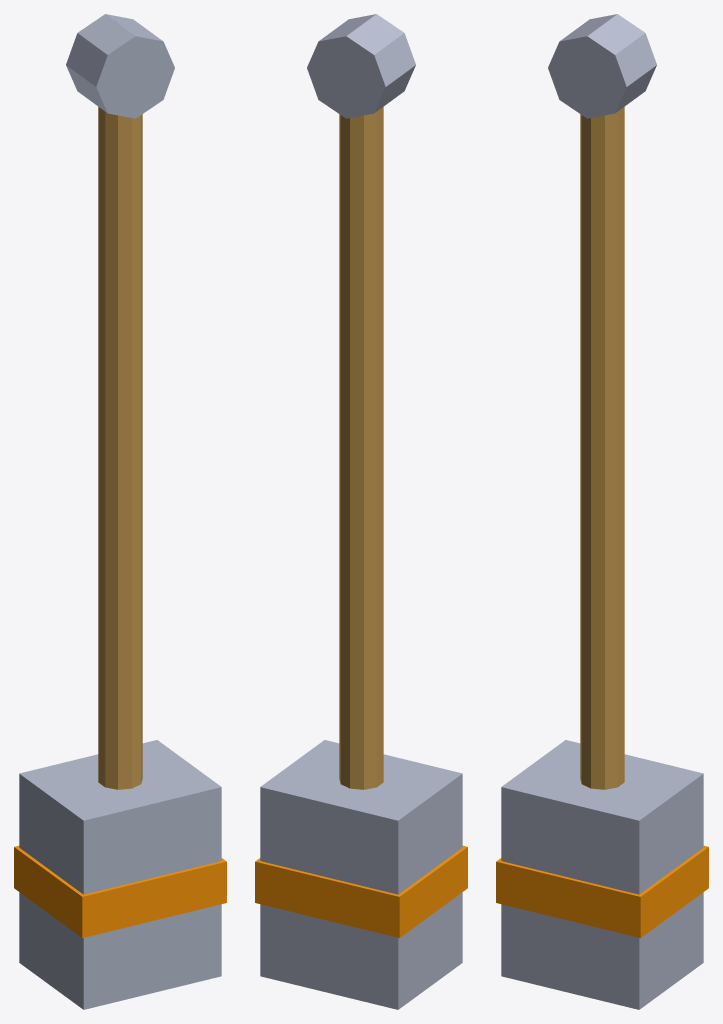
File: Hammer_Pendulum.obj
3 views of the same model, side by side, from view 1: azimuth 30°, elevation 25°; view 2: azimuth 150°, elevation 25°; view 3: azimuth 330°, elevation 25° (orthographic).
Parts seen in each view (by area): view 1: Hammer_Pendulum; view 2: Hammer_Pendulum; view 3: Hammer_Pendulum.
Part boxes in pixels (box(x1,y1,x2,y2)): Hammer_Pendulum: box(14, 14, 226, 1009); Hammer_Pendulum: box(255, 14, 467, 1009); Hammer_Pendulum: box(496, 14, 708, 1009).
Size of the model in its own units: 0.44 by 2.74 by 0.36.
Materials: 1 (1 with a texture image).
